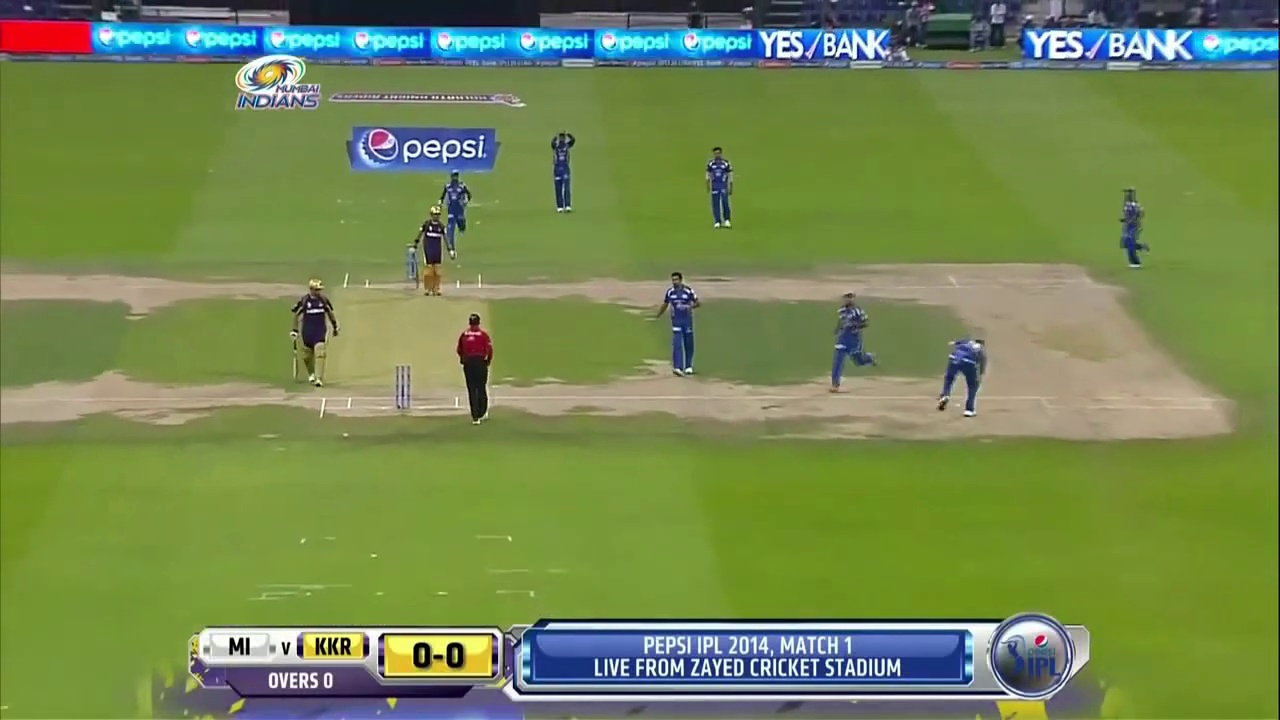bat: (291, 343, 300, 379), (412, 256, 420, 290)
stumps: (395, 362, 412, 412)
